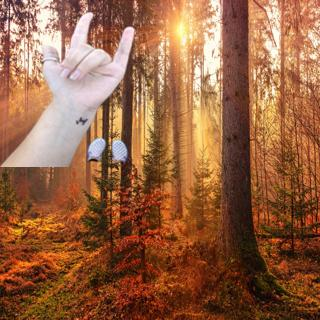ILY: (37, 9, 138, 114)
